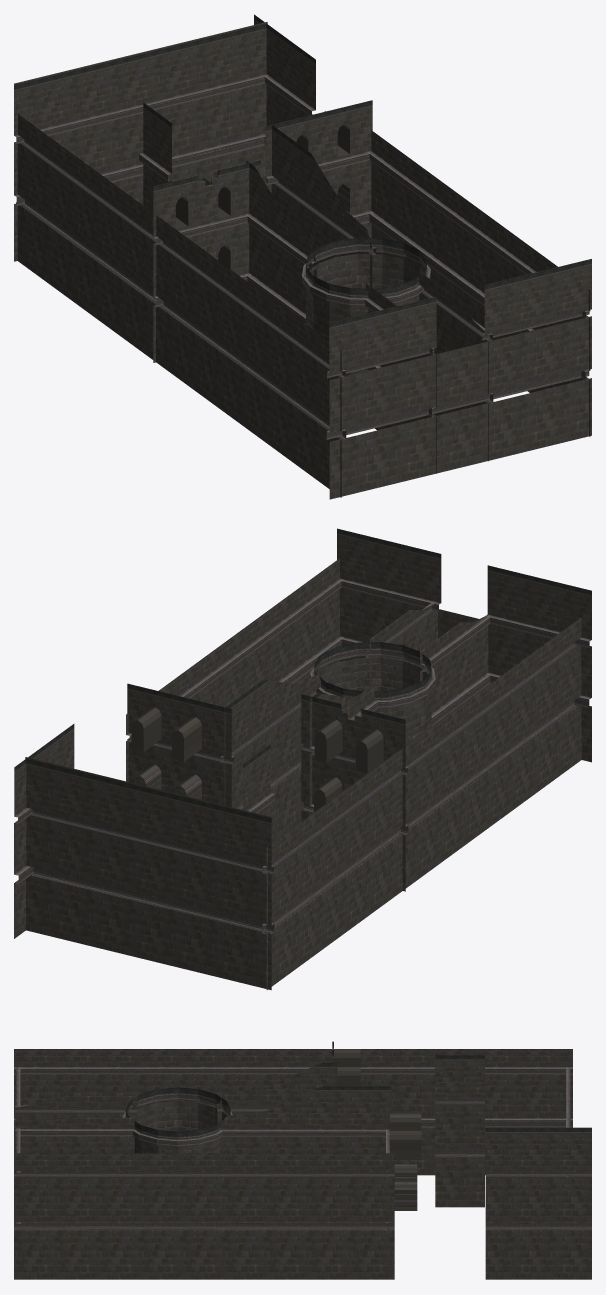
The model's file is liqiang1.FBX.
3 renders of one model, top to bottom at view 1: azimuth 30°, elevation 25°; view 2: azimuth 150°, elevation 25°; view 3: azimuth 270°, elevation 25°, orthographic. The views are drawn at different scales.
Visible parts, largest first — view 1: qianmian; view 2: qianmian; view 3: qianmian.
Part boxes in pixels (box(x1,y1,x2,y2)): qianmian: box(14, 14, 591, 499); qianmian: box(14, 528, 591, 990); qianmian: box(14, 1041, 591, 1279).
Bounding box in the file's own units: 2949 × 1915 × 6548.
